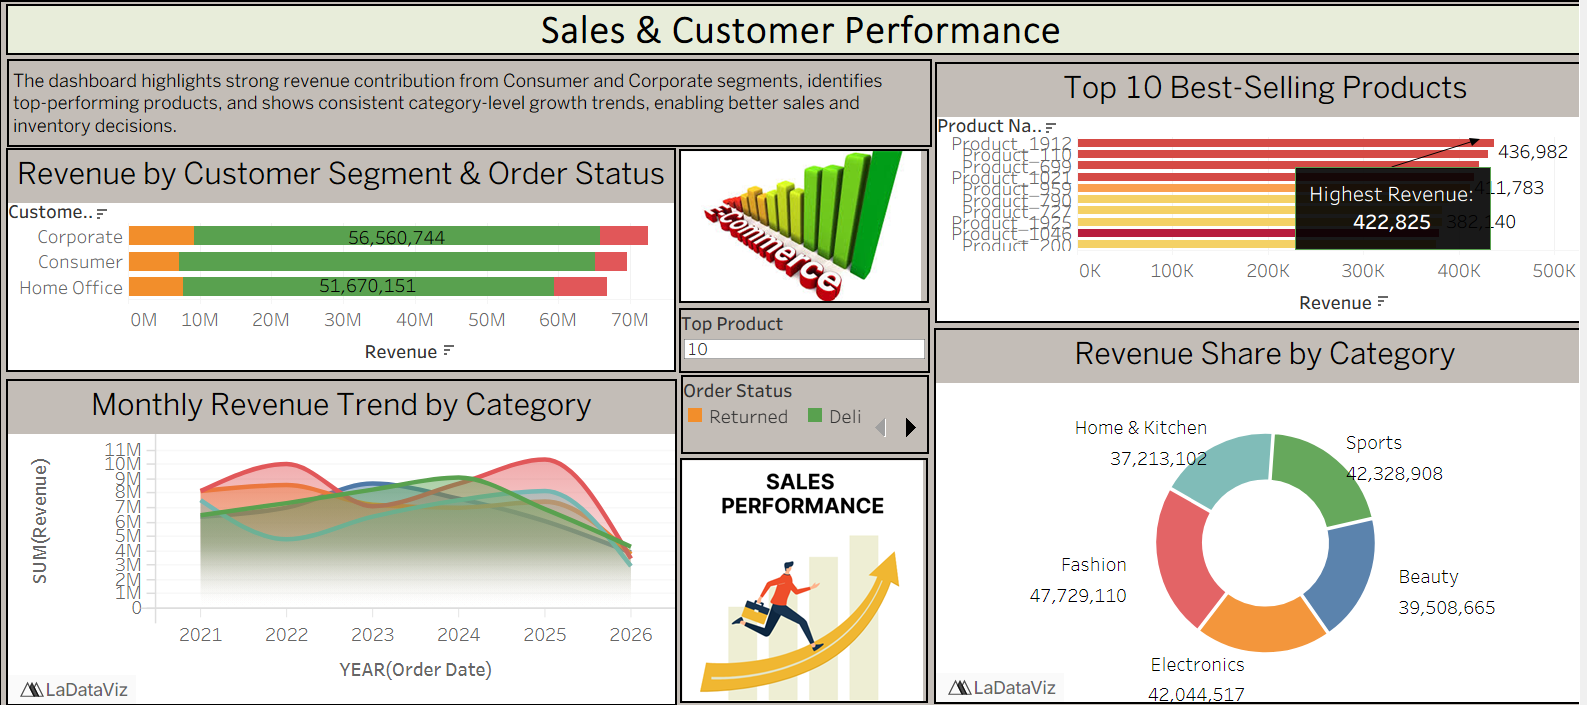

This screenshot's page, from the dashboard's own definition file:
{"tool":"tableau","page":{"name":"Dashboard 1","canvas":[1000,1000],"units":"permille","ordinal":0},"visuals":[{"type":"text","box":[9.3,16.1,981.5,69.6]},{"type":"text","box":[9.9,92.4,571,120.5]},{"type":"worksheet","title":"Top 10 Products by Revenue","mark":"Automatic","rows":["Product_Name"],"cols":["Revenue"],"box":[582.7,96.4,408,357.4]},{"type":"worksheet","title":"Customer Segment Analysis","mark":"Automatic","rows":["Customer_Segment"],"cols":["Revenue"],"box":[9.3,214.2,413.6,306.6]},{"type":"image","box":[424.7,215.5,154.3,211.5]},{"type":"parameter","param":"[Parameters].[Parameter 1]","box":[424.7,432.4,154.9,89.7]},{"type":"worksheet","title":"Category Contribution","box":[582.1,460.5,408.6,515.4]},{"type":"legend","title":"Customer Segment Analysis","param":"[federated.1a9c4js00jwry112yuas218mgewn].[none:Order_Status:nk]","box":[425.9,524.8,153.1,108.4]},{"type":"worksheet","title":"Revenue Trend","box":[9.3,530.1,414.2,447.9]},{"type":"image","box":[425.3,638.4,153.1,335.6]}]}

Visuals, with their boxes on the dashboard's canvas, which has no fixed pixel size, in thousandths of its width and height (x1, y1, x2, y2). These are canvas units, not pixel positions in the 1587x705 screenshot, which may show the page scaled, cropped or inside an application window:
text: left=9, top=16, right=991, bottom=86
text: left=10, top=92, right=581, bottom=213
"Top 10 Products by Revenue" worksheet: left=583, top=96, right=991, bottom=454
"Customer Segment Analysis" worksheet: left=9, top=214, right=423, bottom=521
image: left=425, top=216, right=579, bottom=427
parameter: left=425, top=432, right=580, bottom=522
"Category Contribution" worksheet: left=582, top=460, right=991, bottom=976
"Customer Segment Analysis" legend: left=426, top=525, right=579, bottom=633
"Revenue Trend" worksheet: left=9, top=530, right=424, bottom=978
image: left=425, top=638, right=578, bottom=974
